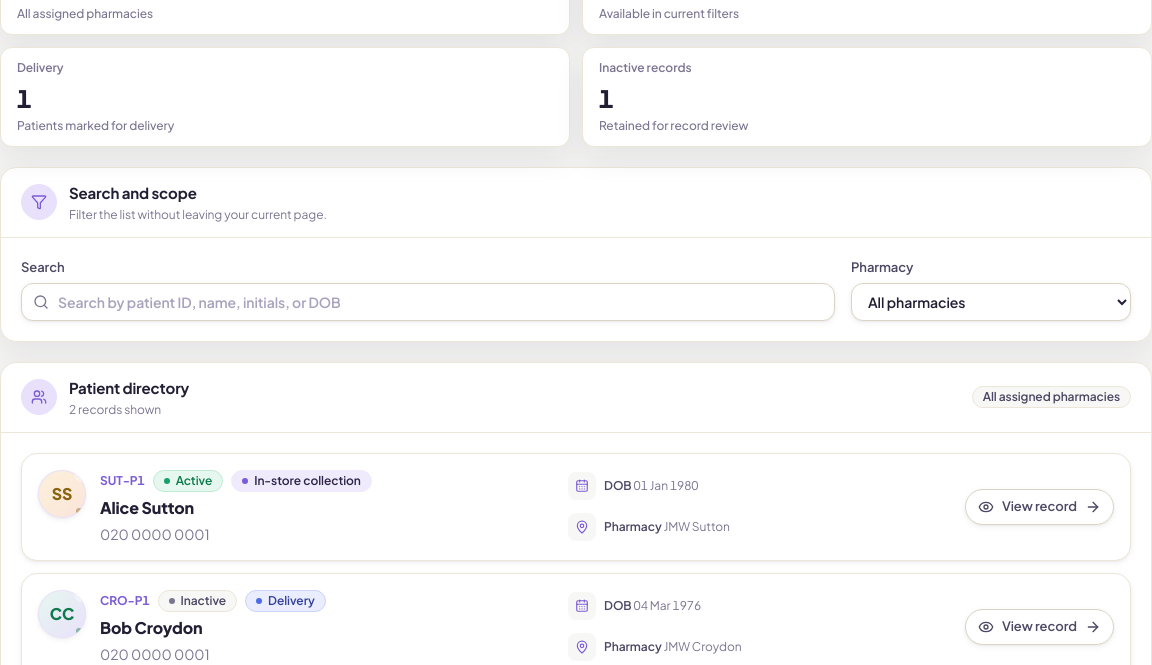
Test: PatientsScreen › opens patient detail in a workspace modal without a full-record link
(page scrolled)
What coordinates should you click on to do the following:
click the button "View record" in the row of "JMW Sutton"
I would click on:
 (1039, 506)
Its box is [965, 488, 1114, 524].
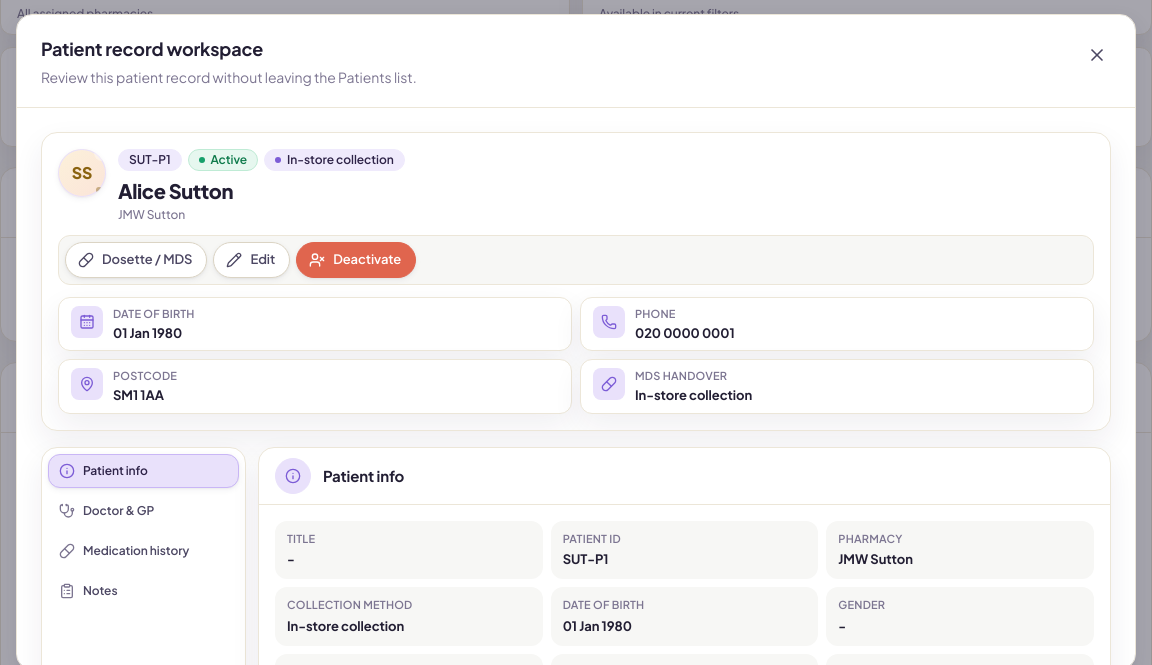
Expected: the heading "Alice Sutton" is shown, [118, 178, 233, 203]
Expected: the text "In-store collection" is shown, [264, 149, 405, 171]
Expected: the button "Patient info" is shown, [48, 454, 239, 488]
What coordinates should you click on to do the following:
click the button "Notes"
I would click on:
 (144, 591)
Its box is [48, 574, 239, 608].
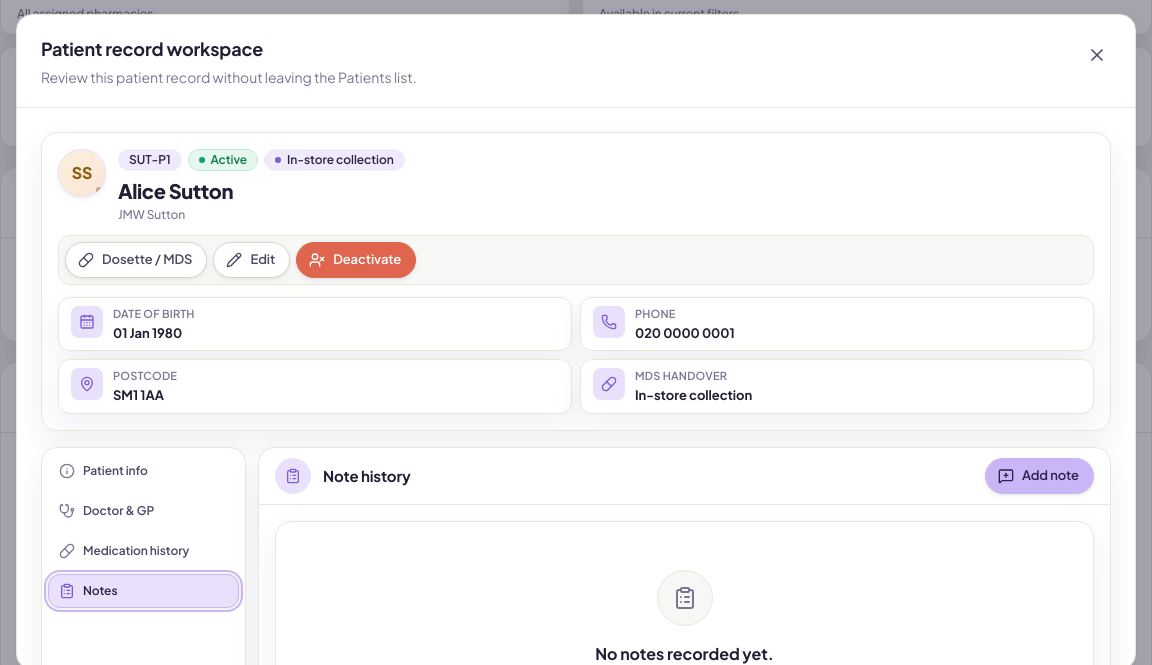
Expected: the heading "Note history" is shown, [323, 464, 411, 487]
What coordinates should you click on to do the following:
click the button named "Close modal"
I would click on:
 (1097, 55)
Its box is [1077, 35, 1117, 75].
(page scrolled)
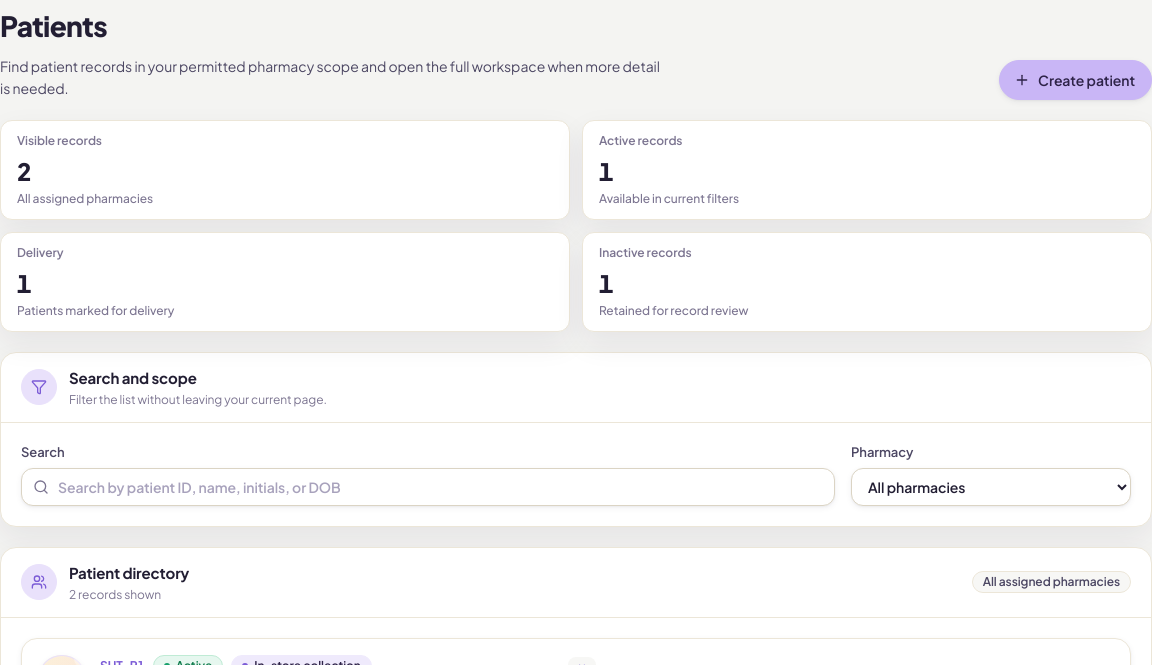
Expected: the heading "Patients" is shown, [0, 8, 107, 42]
Expected: the heading "Patient record workspace" is gone
